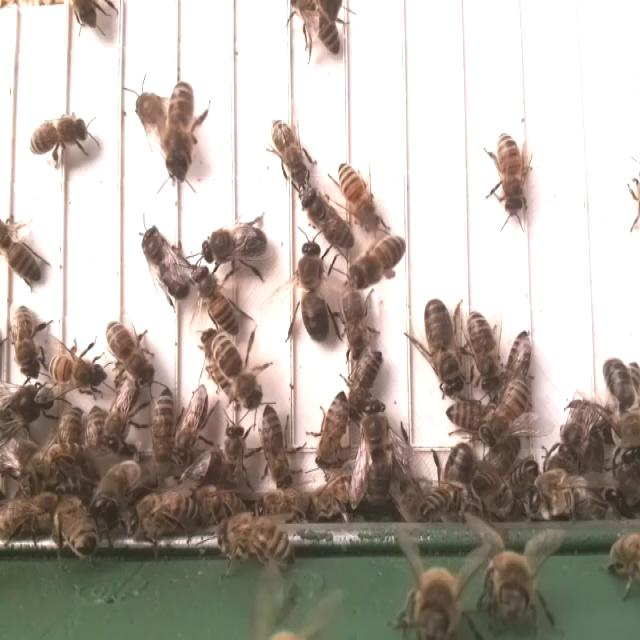Drone: (139, 222, 194, 304), (422, 296, 465, 399), (296, 234, 334, 346), (163, 75, 198, 187), (198, 220, 272, 270), (360, 397, 392, 507)
Worker: (211, 328, 261, 411), (479, 378, 532, 454), (192, 260, 242, 338), (335, 158, 383, 235), (349, 234, 408, 292), (301, 187, 354, 250), (466, 307, 502, 399), (105, 318, 154, 385), (496, 127, 530, 217), (269, 116, 311, 188), (344, 346, 386, 418), (0, 219, 44, 287), (262, 401, 294, 491), (314, 392, 349, 474), (26, 114, 91, 158), (340, 278, 374, 362), (177, 378, 211, 458), (442, 400, 499, 445), (150, 382, 178, 469), (10, 302, 42, 378), (46, 353, 106, 387)
